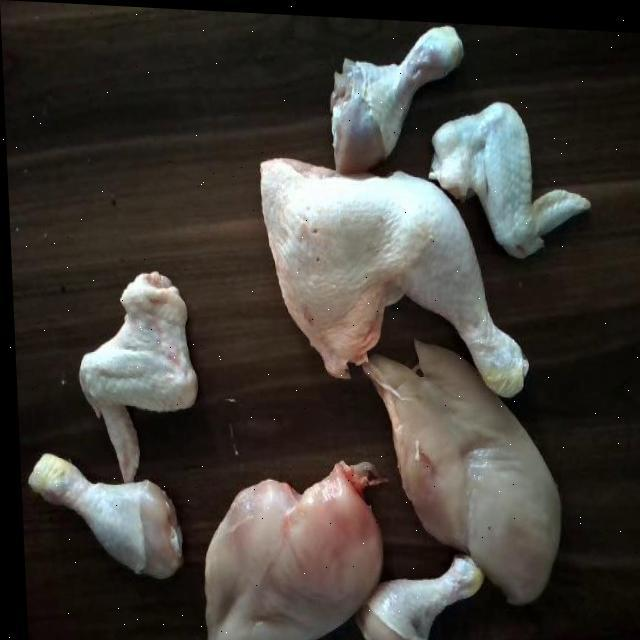breast: (348, 337, 562, 599), (194, 446, 384, 640)
leg: (17, 438, 195, 590), (323, 13, 462, 184), (351, 541, 482, 640)
quater: (254, 143, 534, 397)
wing: (74, 263, 204, 486), (433, 89, 594, 261)
